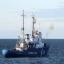fishing boat: (2, 8, 50, 58)
